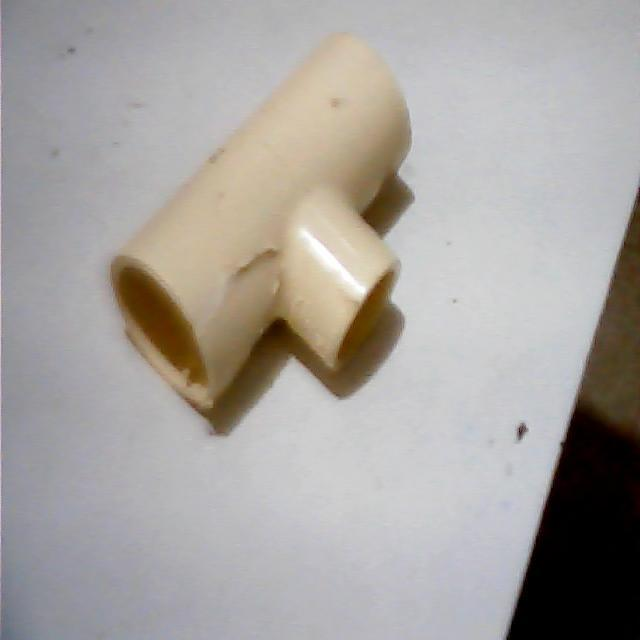Defective: (204, 220, 290, 390)
T Joint: (111, 34, 410, 413)
